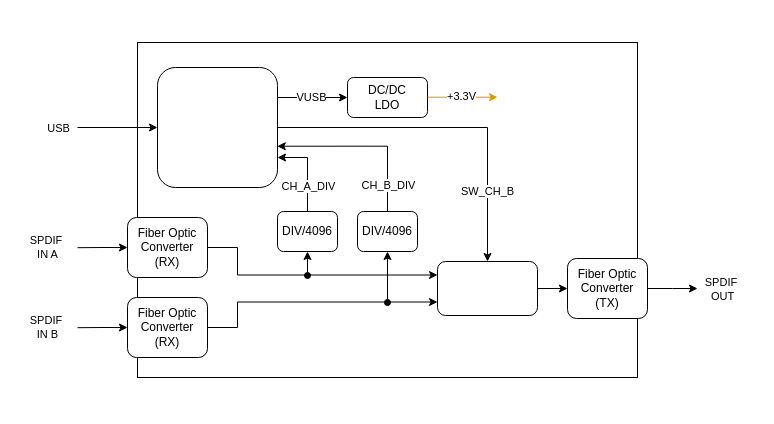
The diagram is 774 pixels wide and 424 high, and some of its shapes have lost their labels. Each missing label, with the centre of its shape:
2:1 Digital MUX: pixel 487 288
Waveshare ESP32-C3 Zero: pixel 217 127
